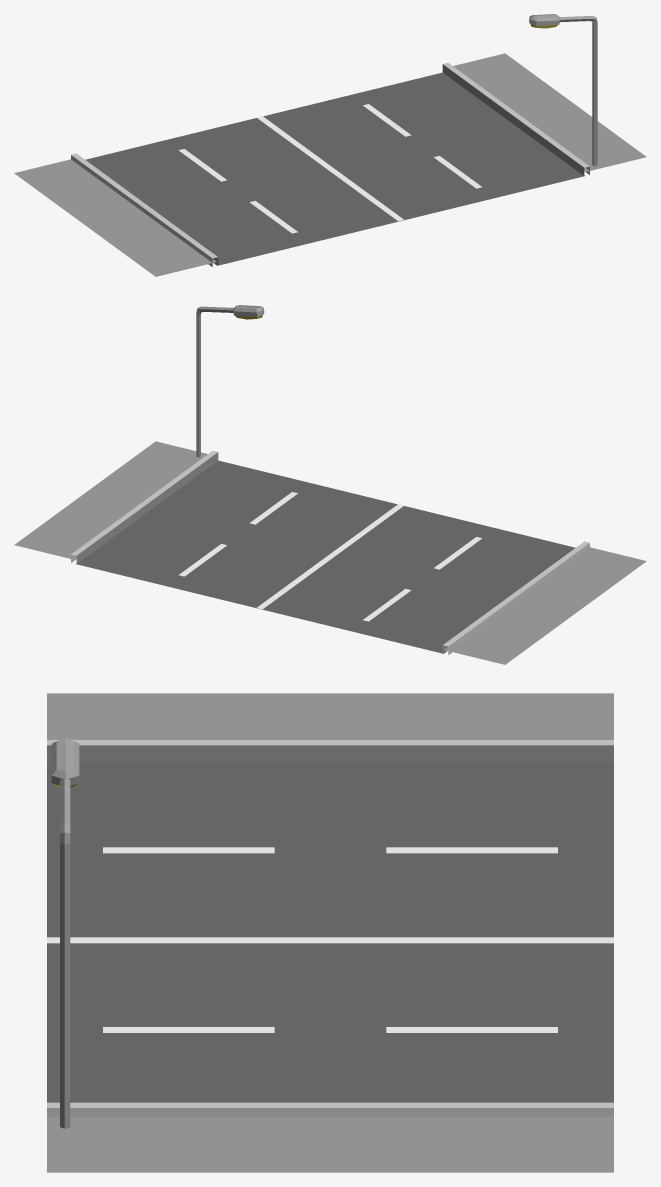
Rendered from SM_Road2.fbx.
The picture shows the model from 3 angles, top to bottom: view 1: azimuth 30°, elevation 25°; view 2: azimuth 150°, elevation 25°; view 3: azimuth 270°, elevation 25°; orthographic projection. The views are drawn at different scales.
Visible parts, largest first — view 1: polySurface680; view 2: polySurface680; view 3: polySurface680.
Boxes of the visible parts, bbox=[...] form: polySurface680: bbox=[14, 14, 646, 276]; polySurface680: bbox=[14, 305, 646, 664]; polySurface680: bbox=[47, 693, 613, 1172].
Size of the model in its own units: 560 by 184 by 280.
